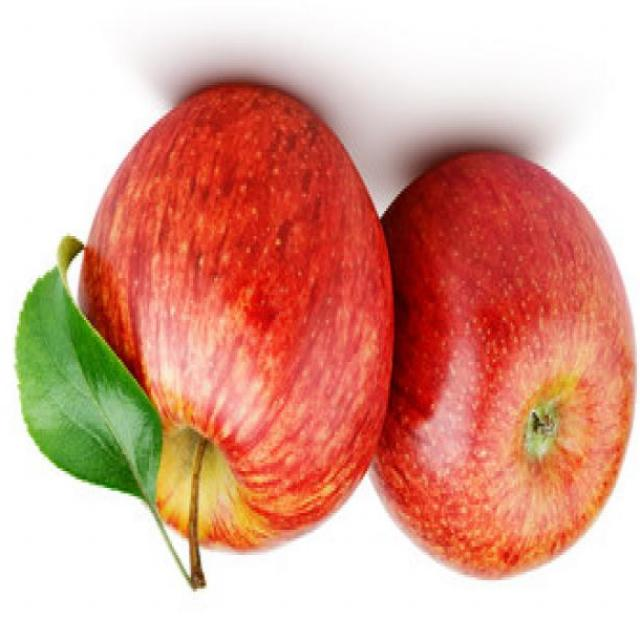apple: (68, 71, 402, 561), (350, 127, 638, 597)
